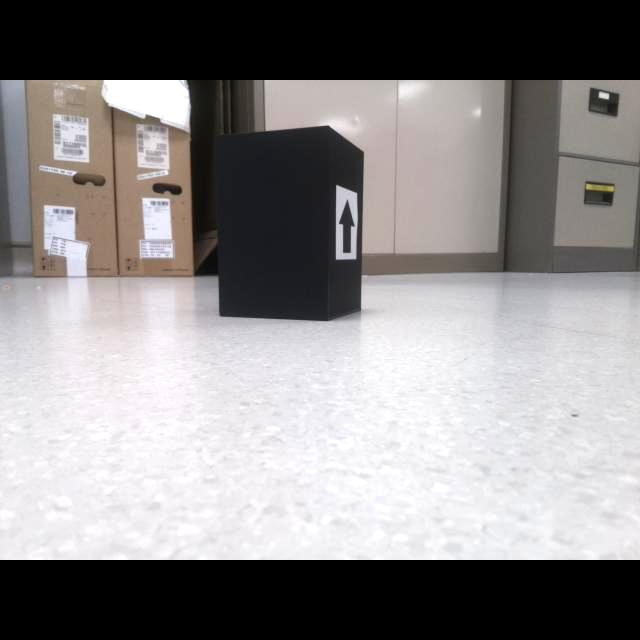UP: (337, 199, 356, 254)
